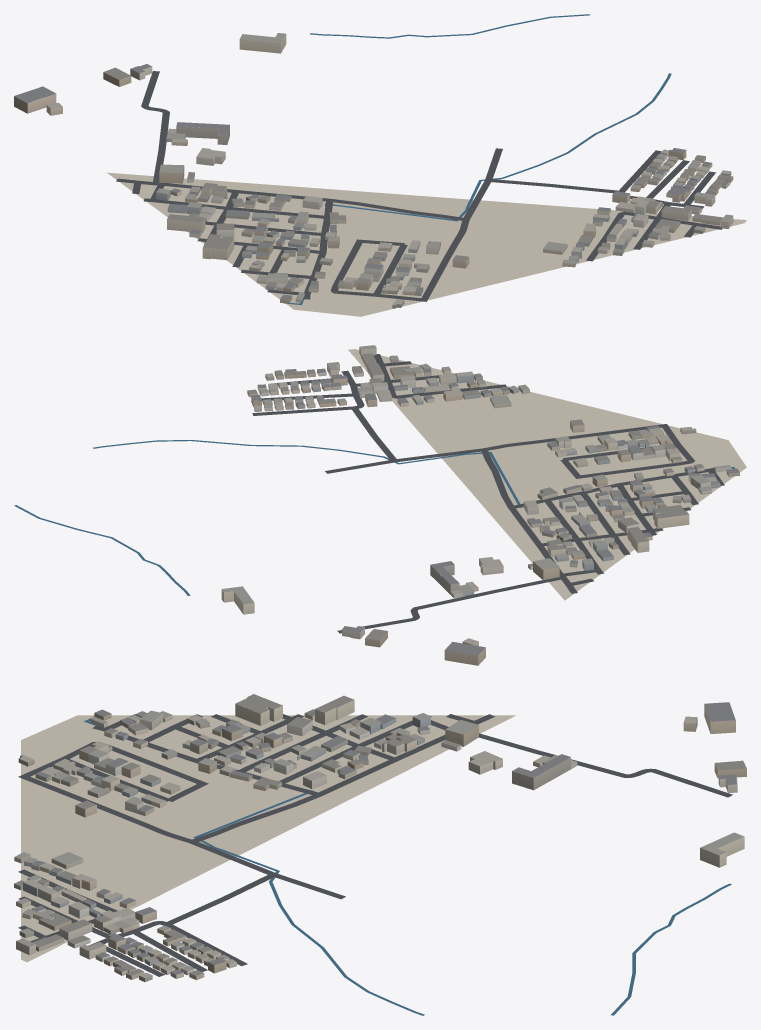
3 renders of one model, top to bottom at view 1: azimuth 30°, elevation 25°; view 2: azimuth 150°, elevation 25°; view 3: azimuth 270°, elevation 25°, orthographic. The views are drawn at different scales.
Parts seen in each view (by area): view 1: landuse, buildings_walls, buildings_roofs, roads, water; view 2: landuse, buildings_walls, buildings_roofs, roads, water; view 3: landuse, buildings_walls, buildings_roofs, roads, water.
Boxes of the visible parts, left/top/right/bottom form: landuse: left=107, top=172, right=746, bottom=316; buildings_walls: left=14, top=34, right=733, bottom=308; buildings_roofs: left=14, top=33, right=733, bottom=305; roads: left=116, top=71, right=722, bottom=301; water: left=284, top=14, right=671, bottom=304; landuse: left=348, top=349, right=746, bottom=600; buildings_walls: left=221, top=347, right=739, bottom=665; buildings_roofs: left=222, top=345, right=739, bottom=655; roads: left=252, top=354, right=724, bottom=633; water: left=14, top=440, right=735, bottom=595; landuse: left=21, top=715, right=515, bottom=962; buildings_walls: left=14, top=697, right=746, bottom=982; buildings_roofs: left=14, top=694, right=746, bottom=977; roads: left=18, top=714, right=732, bottom=976; water: left=84, top=718, right=731, bottom=1015.
Bounding box in the file's own units: 516 × 9.61 × 516.
